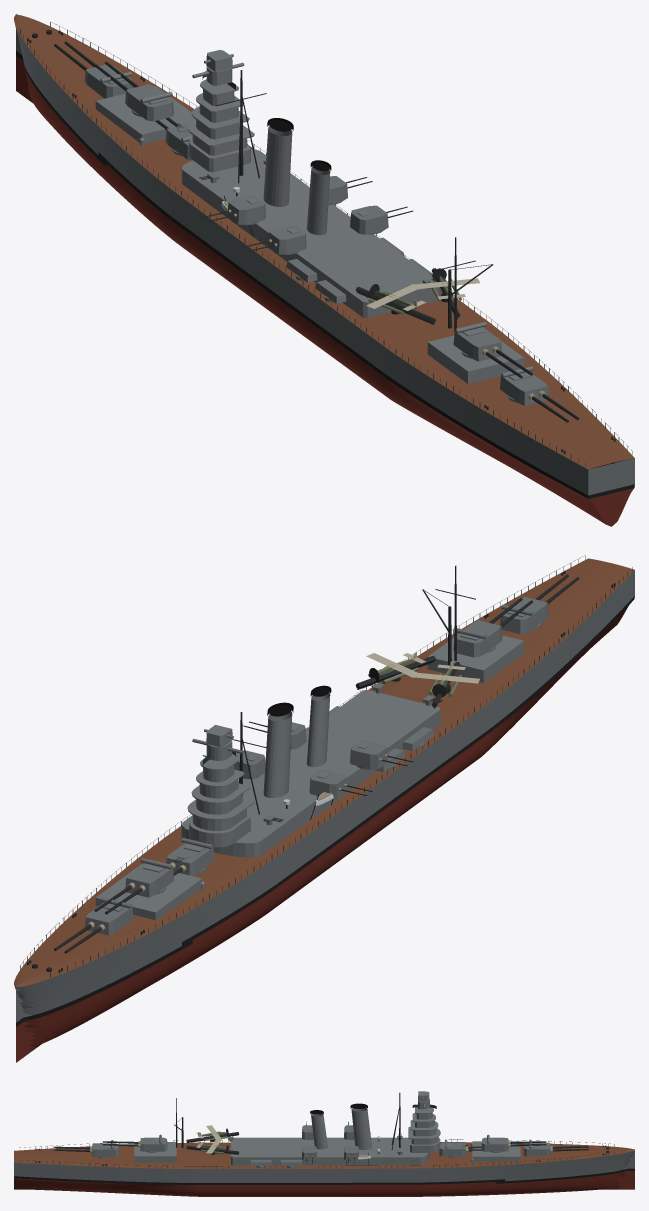
Rendered from myoko.glb.
The picture shows the model from 3 angles, top to bottom: view 1: azimuth 30°, elevation 25°; view 2: azimuth 150°, elevation 25°; view 3: azimuth 270°, elevation 25°; orthographic projection. The views are drawn at different scales.
Visible parts, largest first — view 1: Hull, Turret2, Turret4, Turret5, Turret1, Mount4, Mount2, Mount3, Turret3; view 2: Hull, Turret2, Turret4, Turret5, Turret1, Turret3, Mount4, Mount2; view 3: Hull, Turret4, Turret2, Turret5, Turret1, Turret3, Mount1, Mount3, Mount4.
Boxes of the visible parts, bbox=[...] form: Hull: bbox=[14, 14, 634, 526]; Turret2: bbox=[94, 61, 173, 121]; Turret4: bbox=[453, 322, 532, 378]; Turret5: bbox=[500, 366, 579, 422]; Turret1: bbox=[54, 41, 132, 98]; Mount4: bbox=[243, 225, 306, 254]; Mount2: bbox=[203, 195, 265, 225]; Mount3: bbox=[350, 205, 413, 234]; Turret3: bbox=[155, 117, 192, 160]; Hull: bbox=[14, 555, 634, 1062]; Turret2: bbox=[94, 858, 173, 914]; Turret4: bbox=[453, 598, 532, 657]; Turret5: bbox=[500, 574, 579, 634]; Turret1: bbox=[54, 897, 133, 953]; Turret3: bbox=[166, 838, 214, 876]; Mount4: bbox=[350, 740, 413, 769]; Mount2: bbox=[309, 770, 372, 799]; Hull: bbox=[14, 1092, 634, 1196]; Turret4: bbox=[102, 1134, 167, 1152]; Turret2: bbox=[481, 1134, 546, 1152]; Turret5: bbox=[54, 1140, 118, 1158]; Turret1: bbox=[523, 1139, 588, 1156]; Turret3: bbox=[439, 1139, 481, 1157]; Mount1: bbox=[344, 1146, 359, 1163]; Mount3: bbox=[302, 1146, 316, 1163]; Mount4: bbox=[302, 1121, 313, 1139].
Bounding box in the file's own units: 32.7 × 35.4 × 206.
